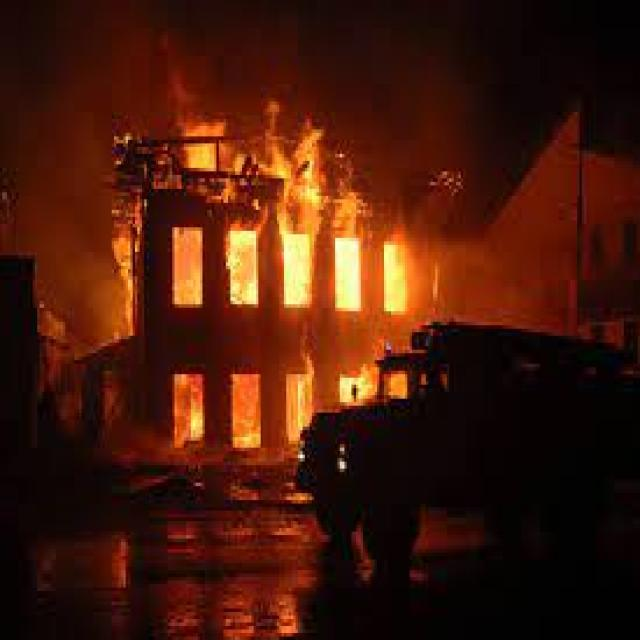Fire: (264, 117, 322, 216), (285, 236, 319, 325), (338, 238, 368, 316), (231, 230, 260, 302), (384, 246, 406, 305)
Smoke: (22, 4, 251, 137)
